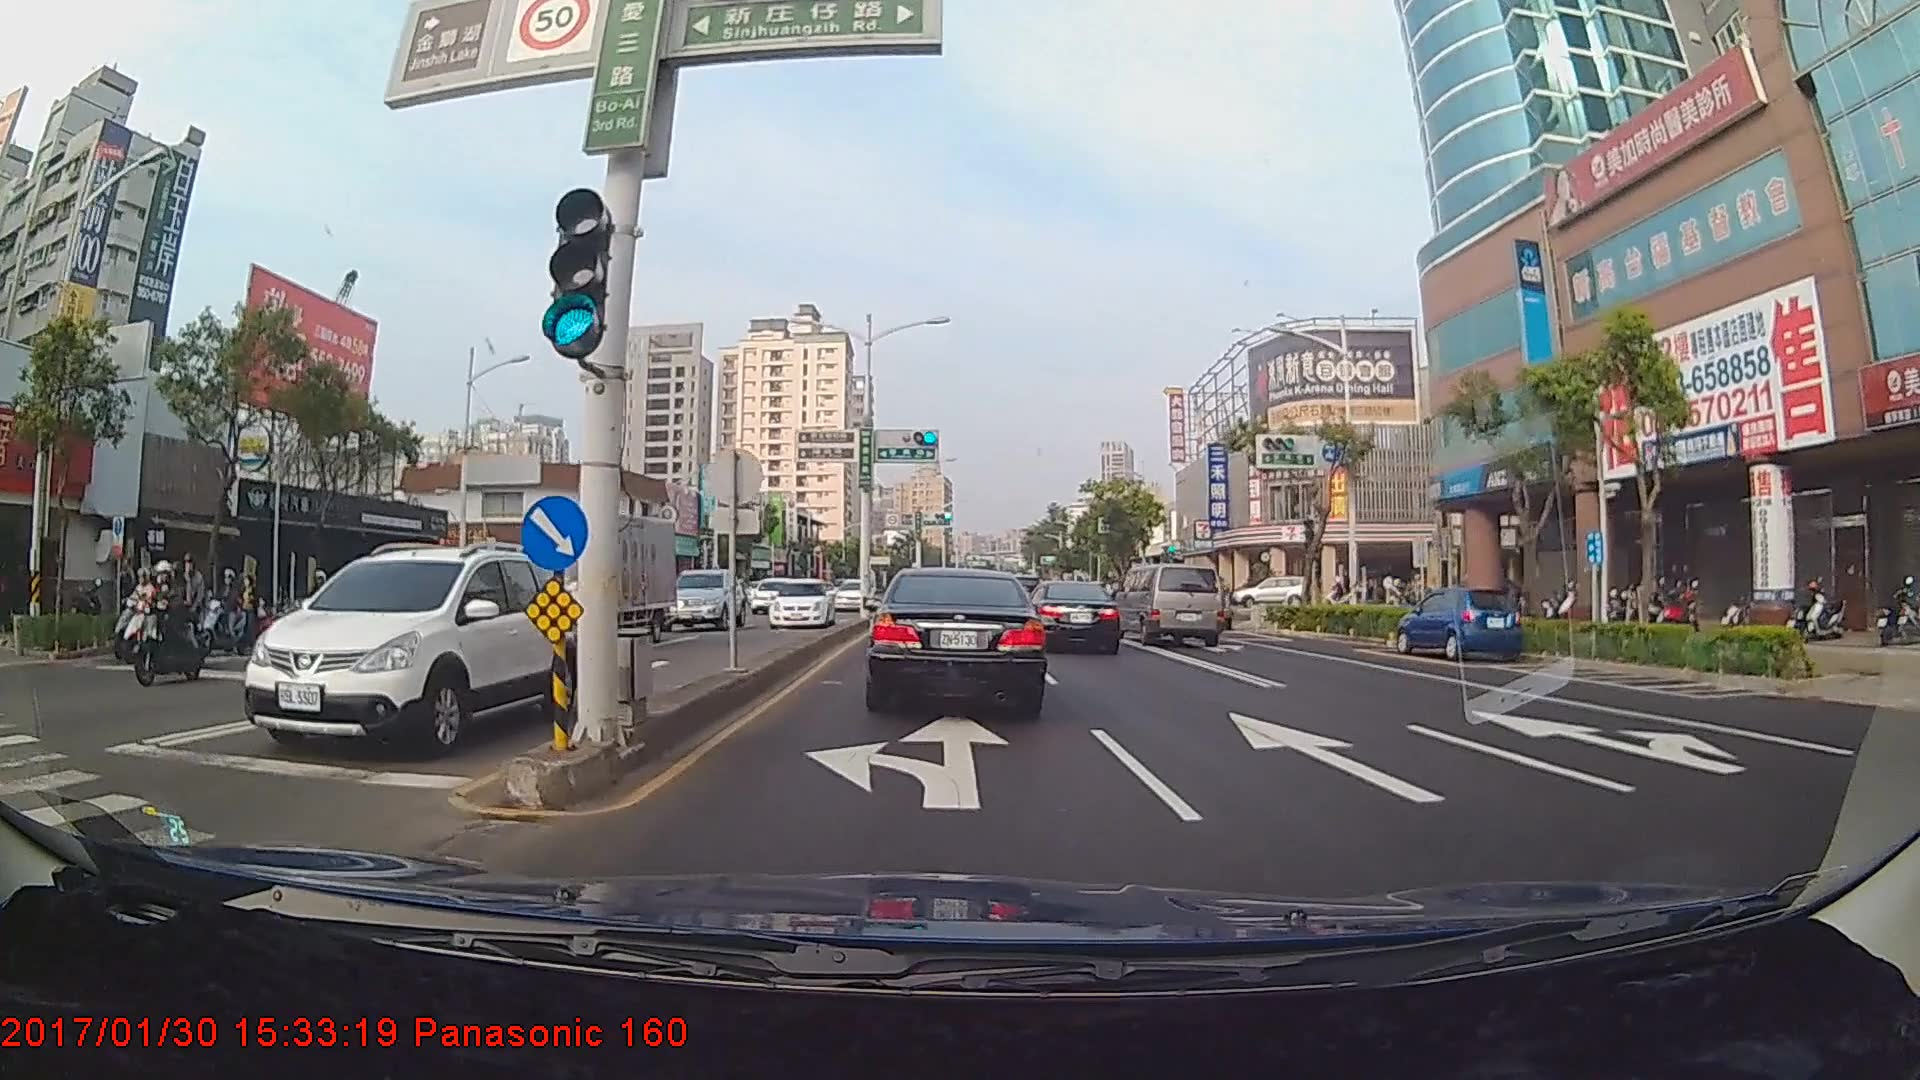rider: (128, 559, 208, 695), (143, 555, 228, 670)
vehicle: (256, 546, 559, 754), (871, 562, 1045, 714), (512, 511, 675, 658), (1394, 583, 1523, 662), (1115, 564, 1225, 648), (1030, 580, 1122, 654), (657, 566, 742, 633), (766, 574, 831, 630), (1235, 576, 1291, 608), (748, 579, 794, 614), (832, 576, 867, 615)
